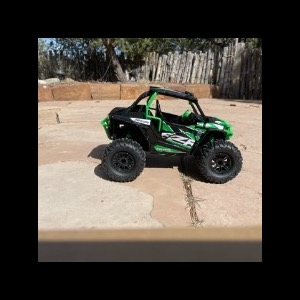polaris: (100, 84, 244, 186)
